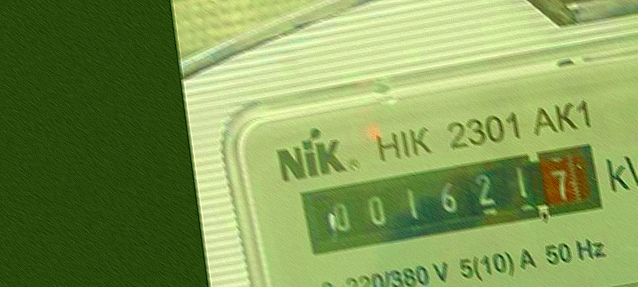0: (363, 191, 389, 231), (328, 198, 352, 234)
1: (511, 162, 530, 201), (402, 185, 421, 222)
2: (472, 170, 497, 209)
6: (436, 180, 459, 216)
7: (547, 166, 571, 204)
screen: (293, 140, 609, 261)
